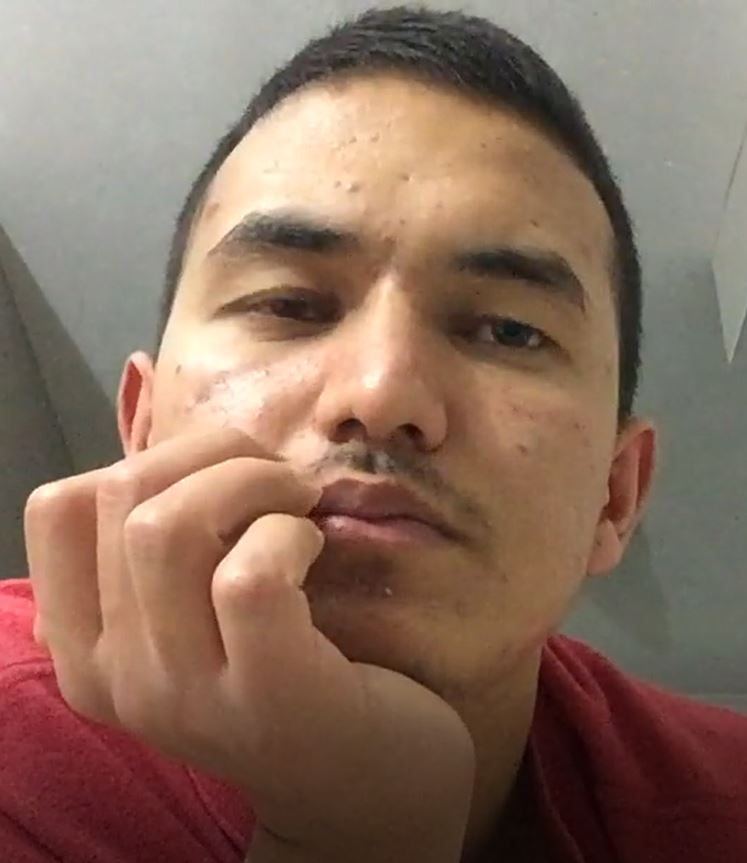Not Sleeping: (193, 245, 604, 388)
